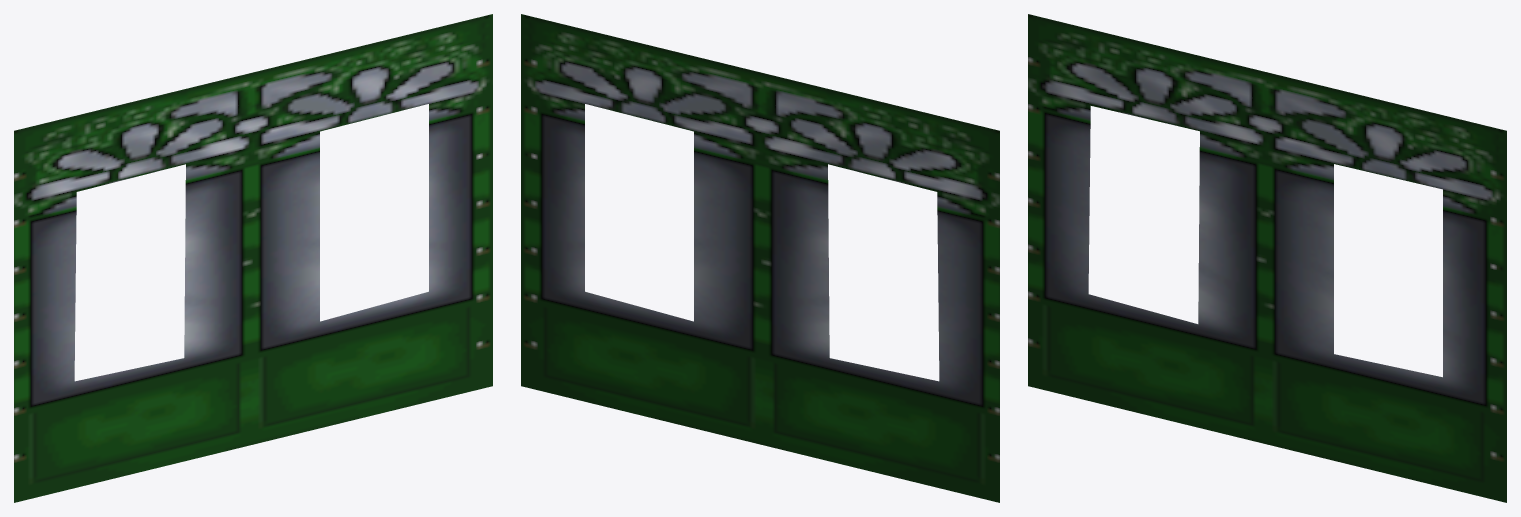
The model's file is W_AI2r_ff [GrünesMetall]_314.glb.
The picture shows the model from 3 angles, left to right: view 1: azimuth 30°, elevation 25°; view 2: azimuth 150°, elevation 25°; view 3: azimuth 330°, elevation 25°; orthographic projection.
Parts seen in each view (by area): view 1: pPlaneShape2; view 2: pPlaneShape2; view 3: pPlaneShape2.
Part boxes in pixels (box(x1,y1,x2,y2)): pPlaneShape2: box(14, 14, 492, 502); pPlaneShape2: box(521, 14, 999, 502); pPlaneShape2: box(1028, 14, 1506, 502).
Size of the model in its own units: 0.4693 by 0.3486 by 1.24e-07.
1 material, 1 textured.
